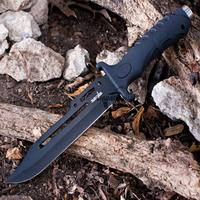knife: (2, 8, 194, 186)
